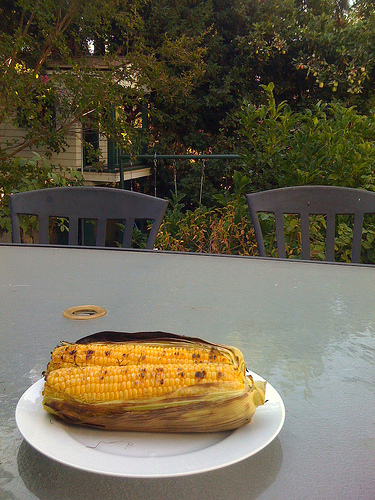corn: (40, 361, 263, 428), (50, 343, 243, 362)
